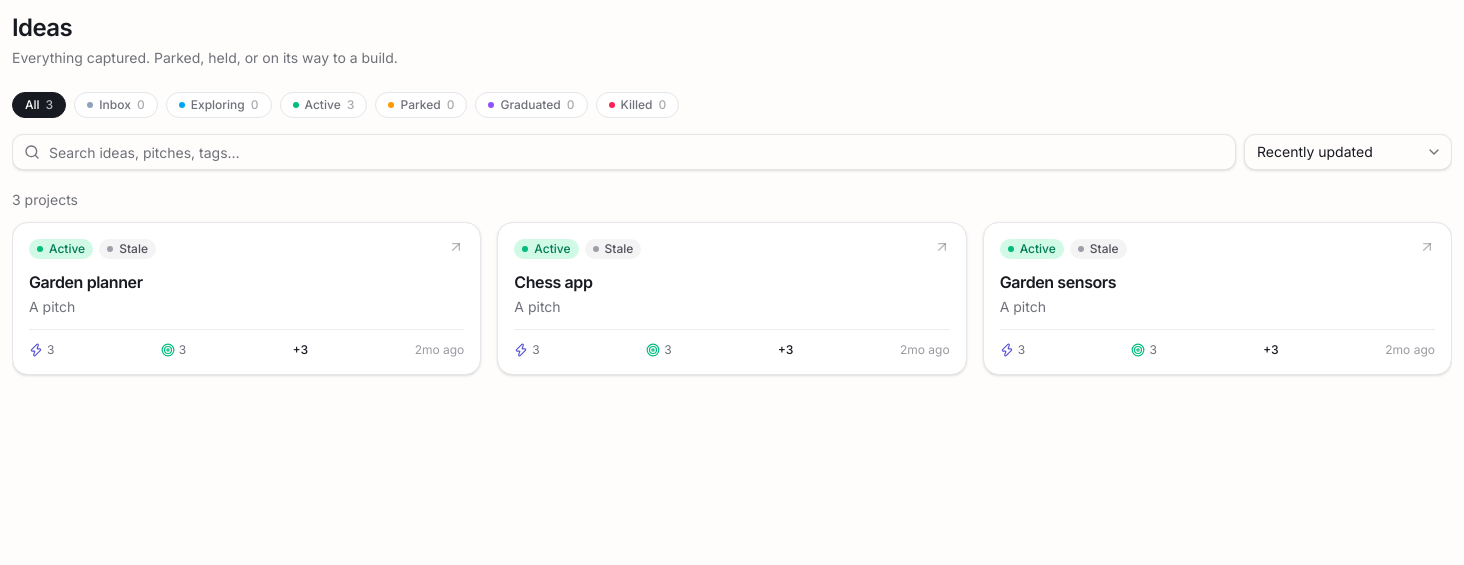
DashboardPage project count (issue #13) › shows the total with no filters, and N of M while searching
Expected: the text with test id "project-count" reads "3 projects", top-left (12, 191), bottom-right (78, 208)
Type "garden" into the field with placeholder "Search ideas, pitches, tags…".
click(624, 152); type("garden")  # box top-left (12, 134), bottom-right (1236, 170)
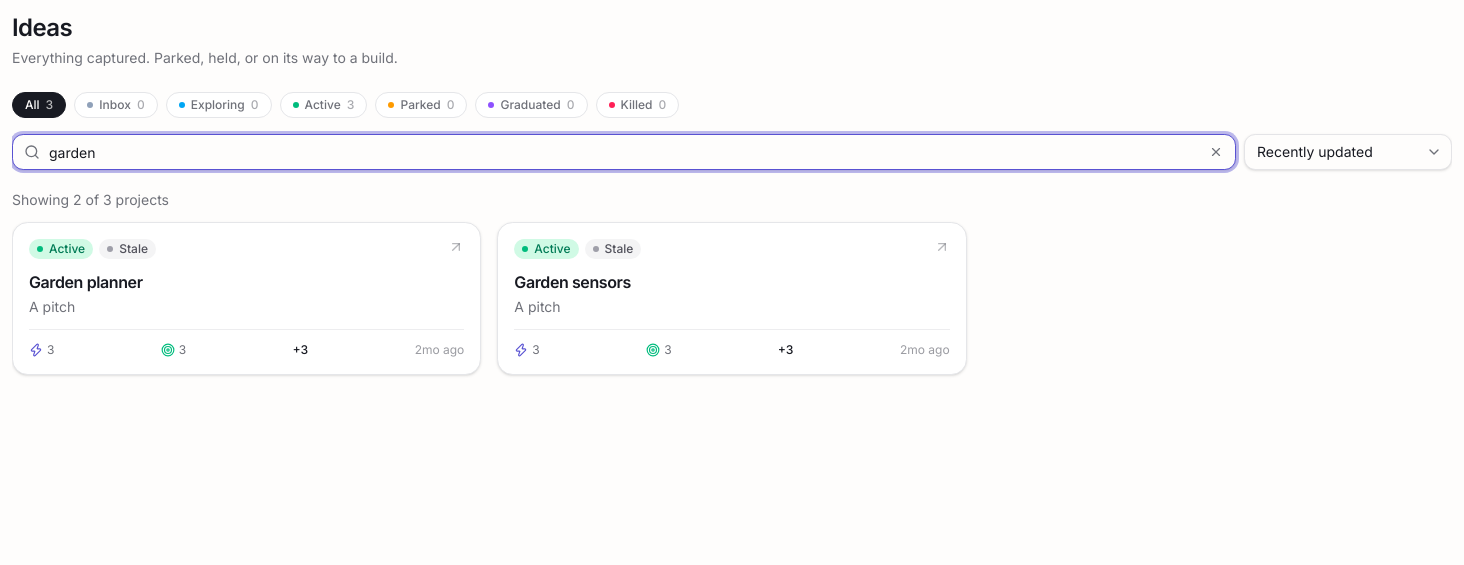
Expected: the text with test id "project-count" reads "Showing 2 of 3 projects", top-left (12, 191), bottom-right (169, 208)
Type "-nothing" into the field with placeholder "Search ideas, pitches, tags…".
click(624, 152); type("-nothing")  # box top-left (12, 134), bottom-right (1236, 170)
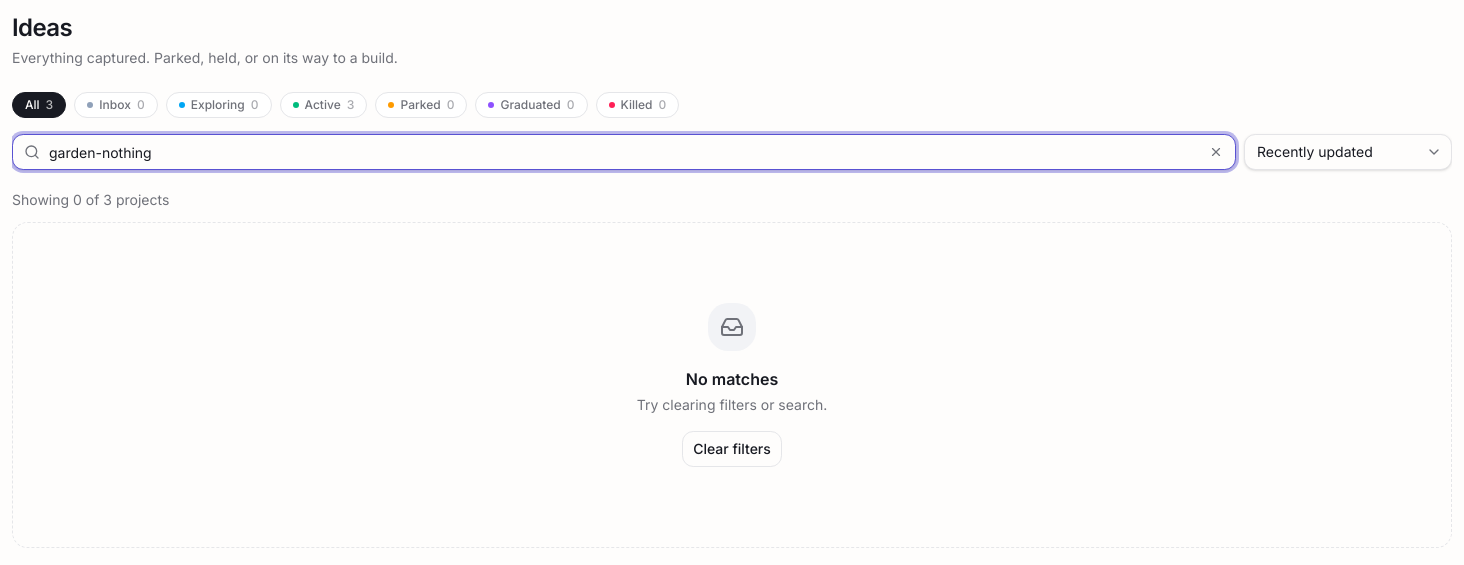
Expected: the text with test id "project-count" reads "Showing 0 of 3 projects", top-left (12, 191), bottom-right (169, 208)
